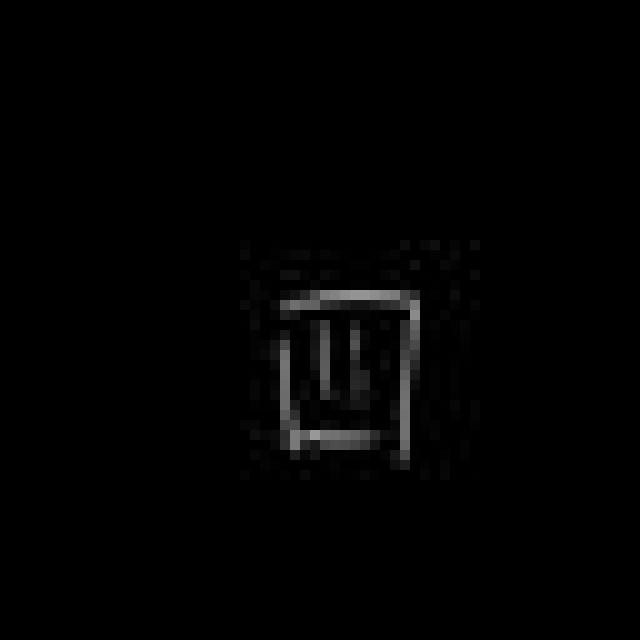4 -four-: (257, 278, 431, 477)
